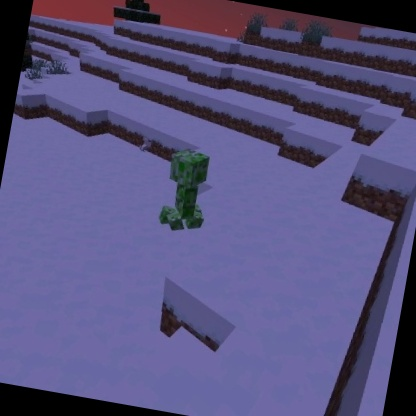creeper: (155, 143, 219, 239)
